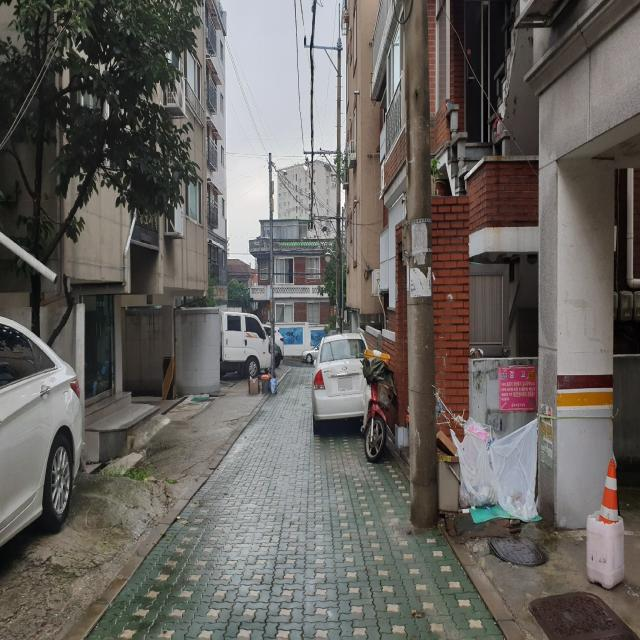car: (0, 316, 83, 548), (311, 332, 369, 434)
motorbike: (359, 358, 396, 462)
